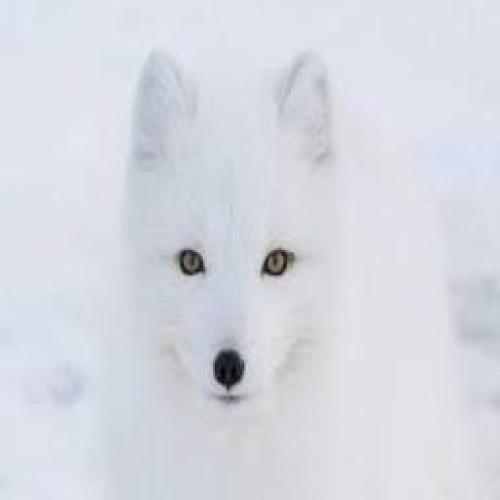arctic_fox-endangered: (115, 44, 353, 498)
